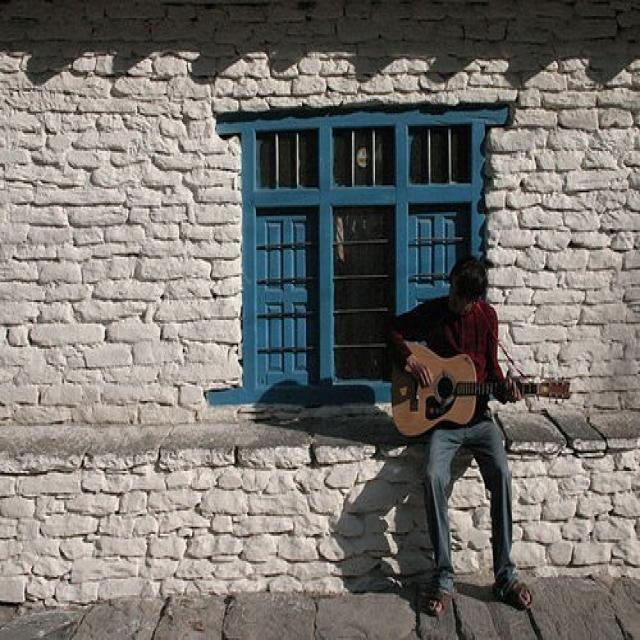guitar: (390, 343, 571, 443)
